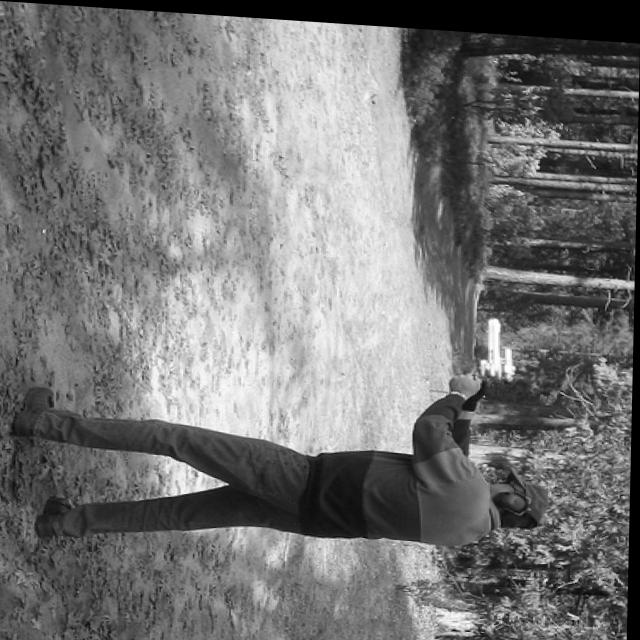handgun: (480, 306, 523, 377)
